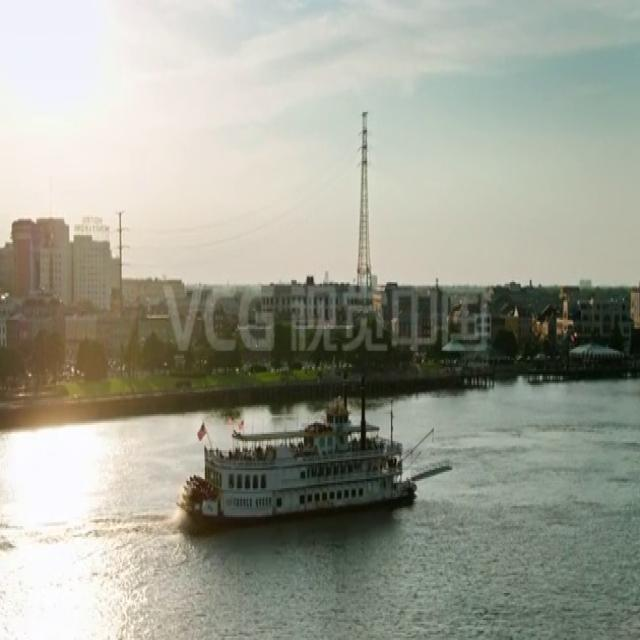passenger ship: (178, 399, 436, 518)
